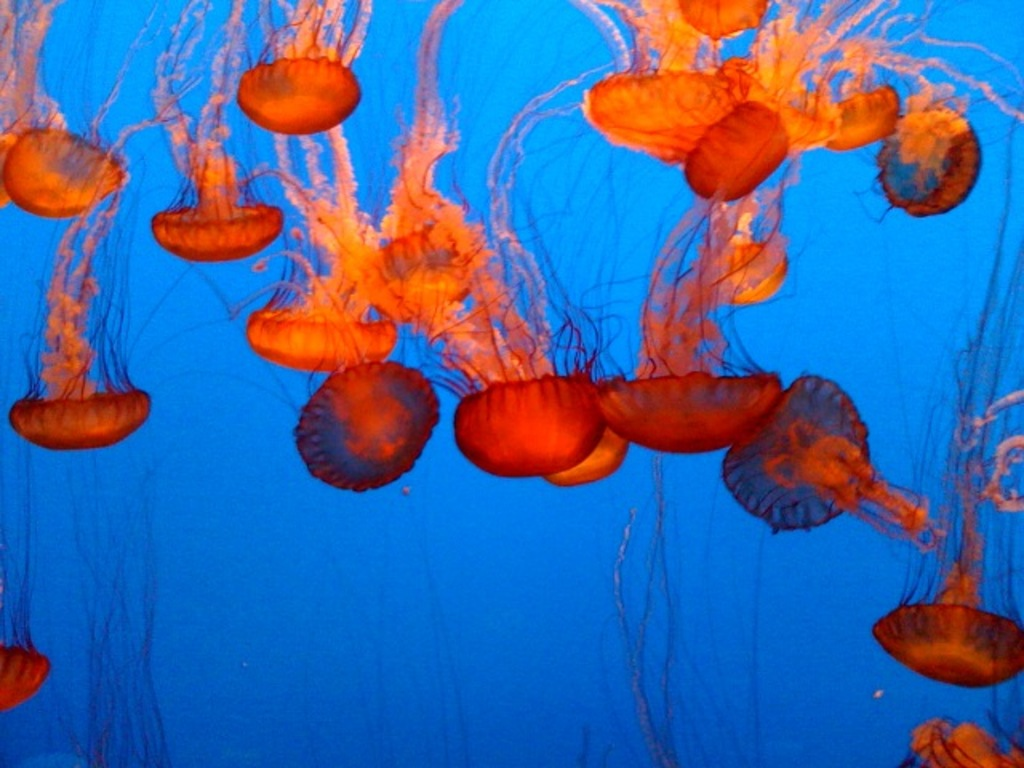Jellyfish: (0, 0, 1022, 766), (280, 347, 446, 494)
